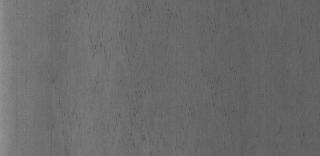silk spot: (78, 12, 245, 134)
